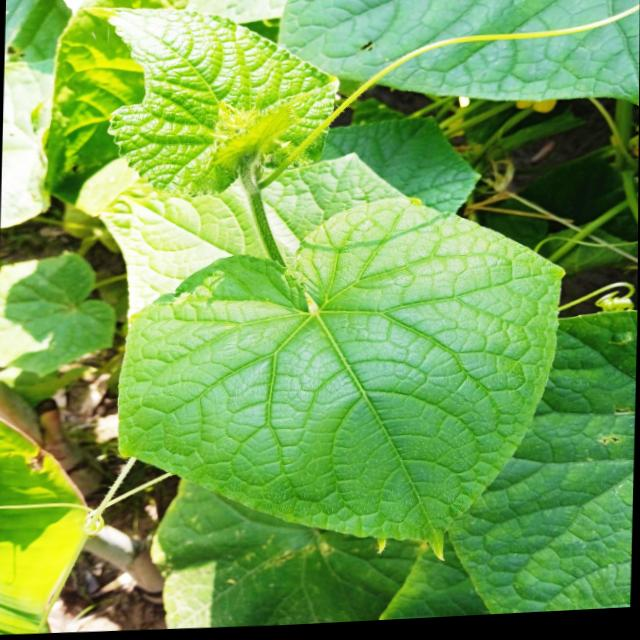Fresh-Leaf: (117, 199, 565, 560), (82, 5, 341, 195)
